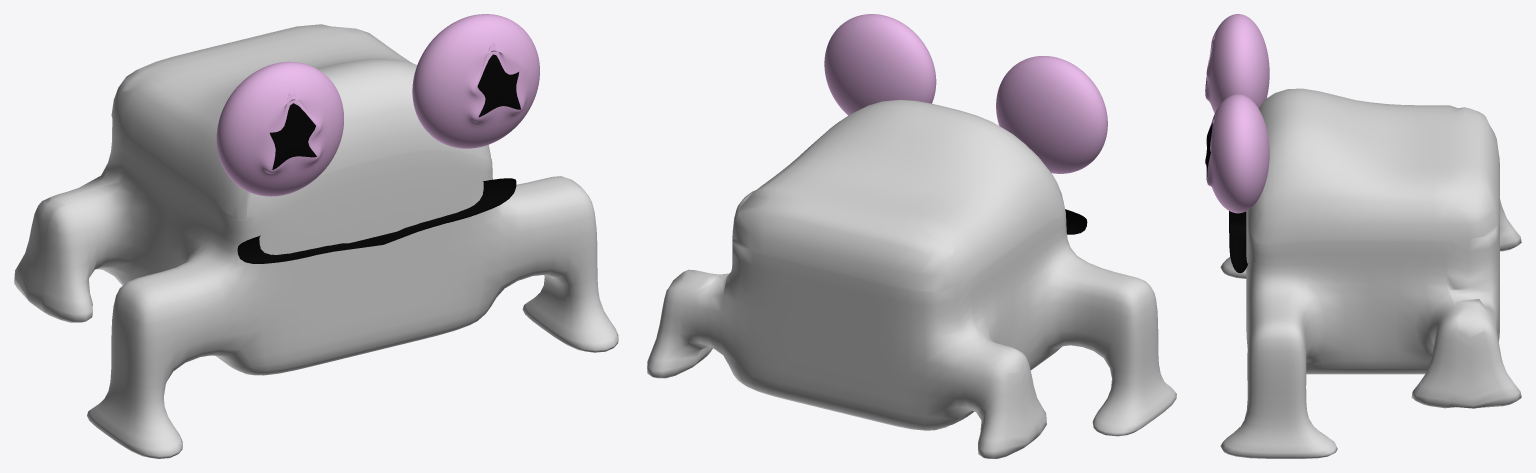
File: varlius.glb
3 views of the same model, side by side, from view 1: azimuth 30°, elevation 25°; view 2: azimuth 150°, elevation 25°; view 3: azimuth 270°, elevation 25° (orthographic). The views are drawn at different scales.
Visible parts, largest first — view 1: Frog; view 2: Frog; view 3: Frog.
Part boxes in pixels (<box>): Frog: <box>14,14,618,458</box>; Frog: <box>647,14,1176,458</box>; Frog: <box>1205,14,1521,458</box>.
Bounding box in the file's own units: 2.37 × 1.67 × 1.58.
